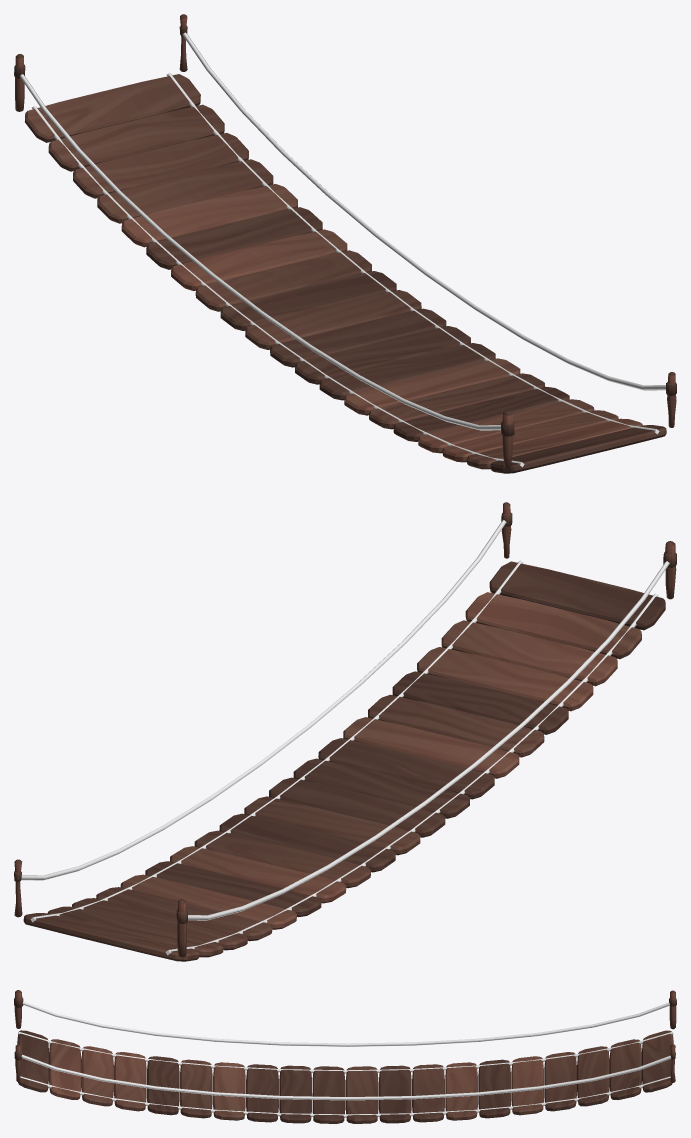
File: Puente_1.fbx
3 renders of one model, top to bottom at view 1: azimuth 30°, elevation 25°; view 2: azimuth 150°, elevation 25°; view 3: azimuth 270°, elevation 25°, orthographic. The views are drawn at different scales.
Parts seen in each view (by area): view 1: Tablones_p1, CurvaSogas, CurvaSogas2, Palos_puente; view 2: Tablones_p1, CurvaSogas, CurvaSogas2, Palos_puente; view 3: Tablones_p1, CurvaSogas, CurvaSogas2, Palos_puente.
Boxes of the visible parts, bbox=[...] form: Tablones_p1: bbox=[25, 74, 666, 473]; CurvaSogas: bbox=[19, 32, 665, 430]; CurvaSogas2: bbox=[32, 72, 659, 467]; Palos_puente: bbox=[14, 14, 676, 468]; Tablones_p1: bbox=[23, 561, 665, 961]; CurvaSogas: bbox=[18, 520, 669, 920]; CurvaSogas2: bbox=[30, 560, 658, 955]; Palos_puente: bbox=[14, 502, 676, 957]; Tablones_p1: bbox=[17, 1030, 673, 1123]; CurvaSogas: bbox=[21, 1001, 670, 1100]; CurvaSogas2: bbox=[17, 1032, 673, 1117]; Palos_puente: bbox=[14, 990, 676, 1082].
Bounding box in the file's own units: 902 × 593 × 4430.
